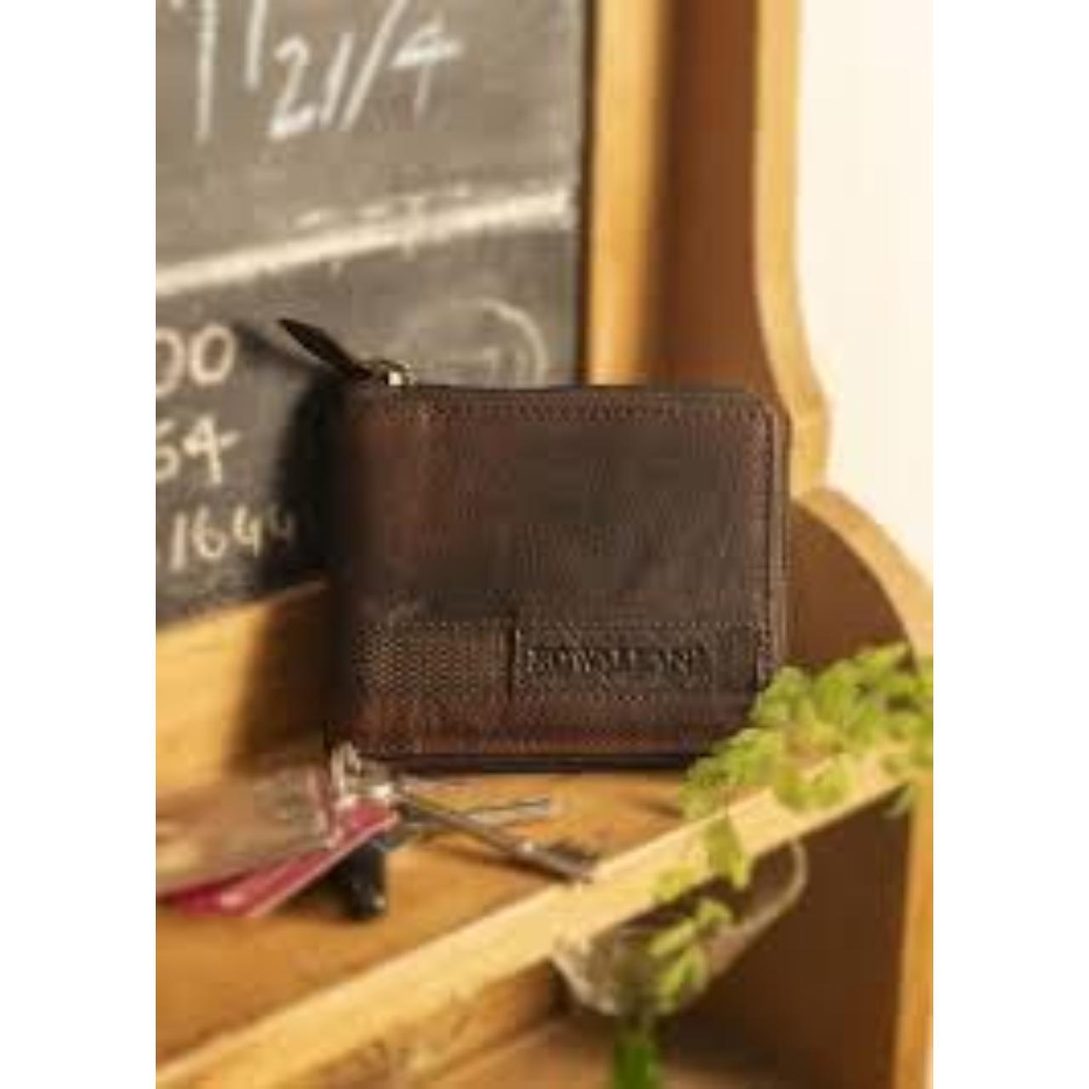wallet: (325, 358, 804, 775)
